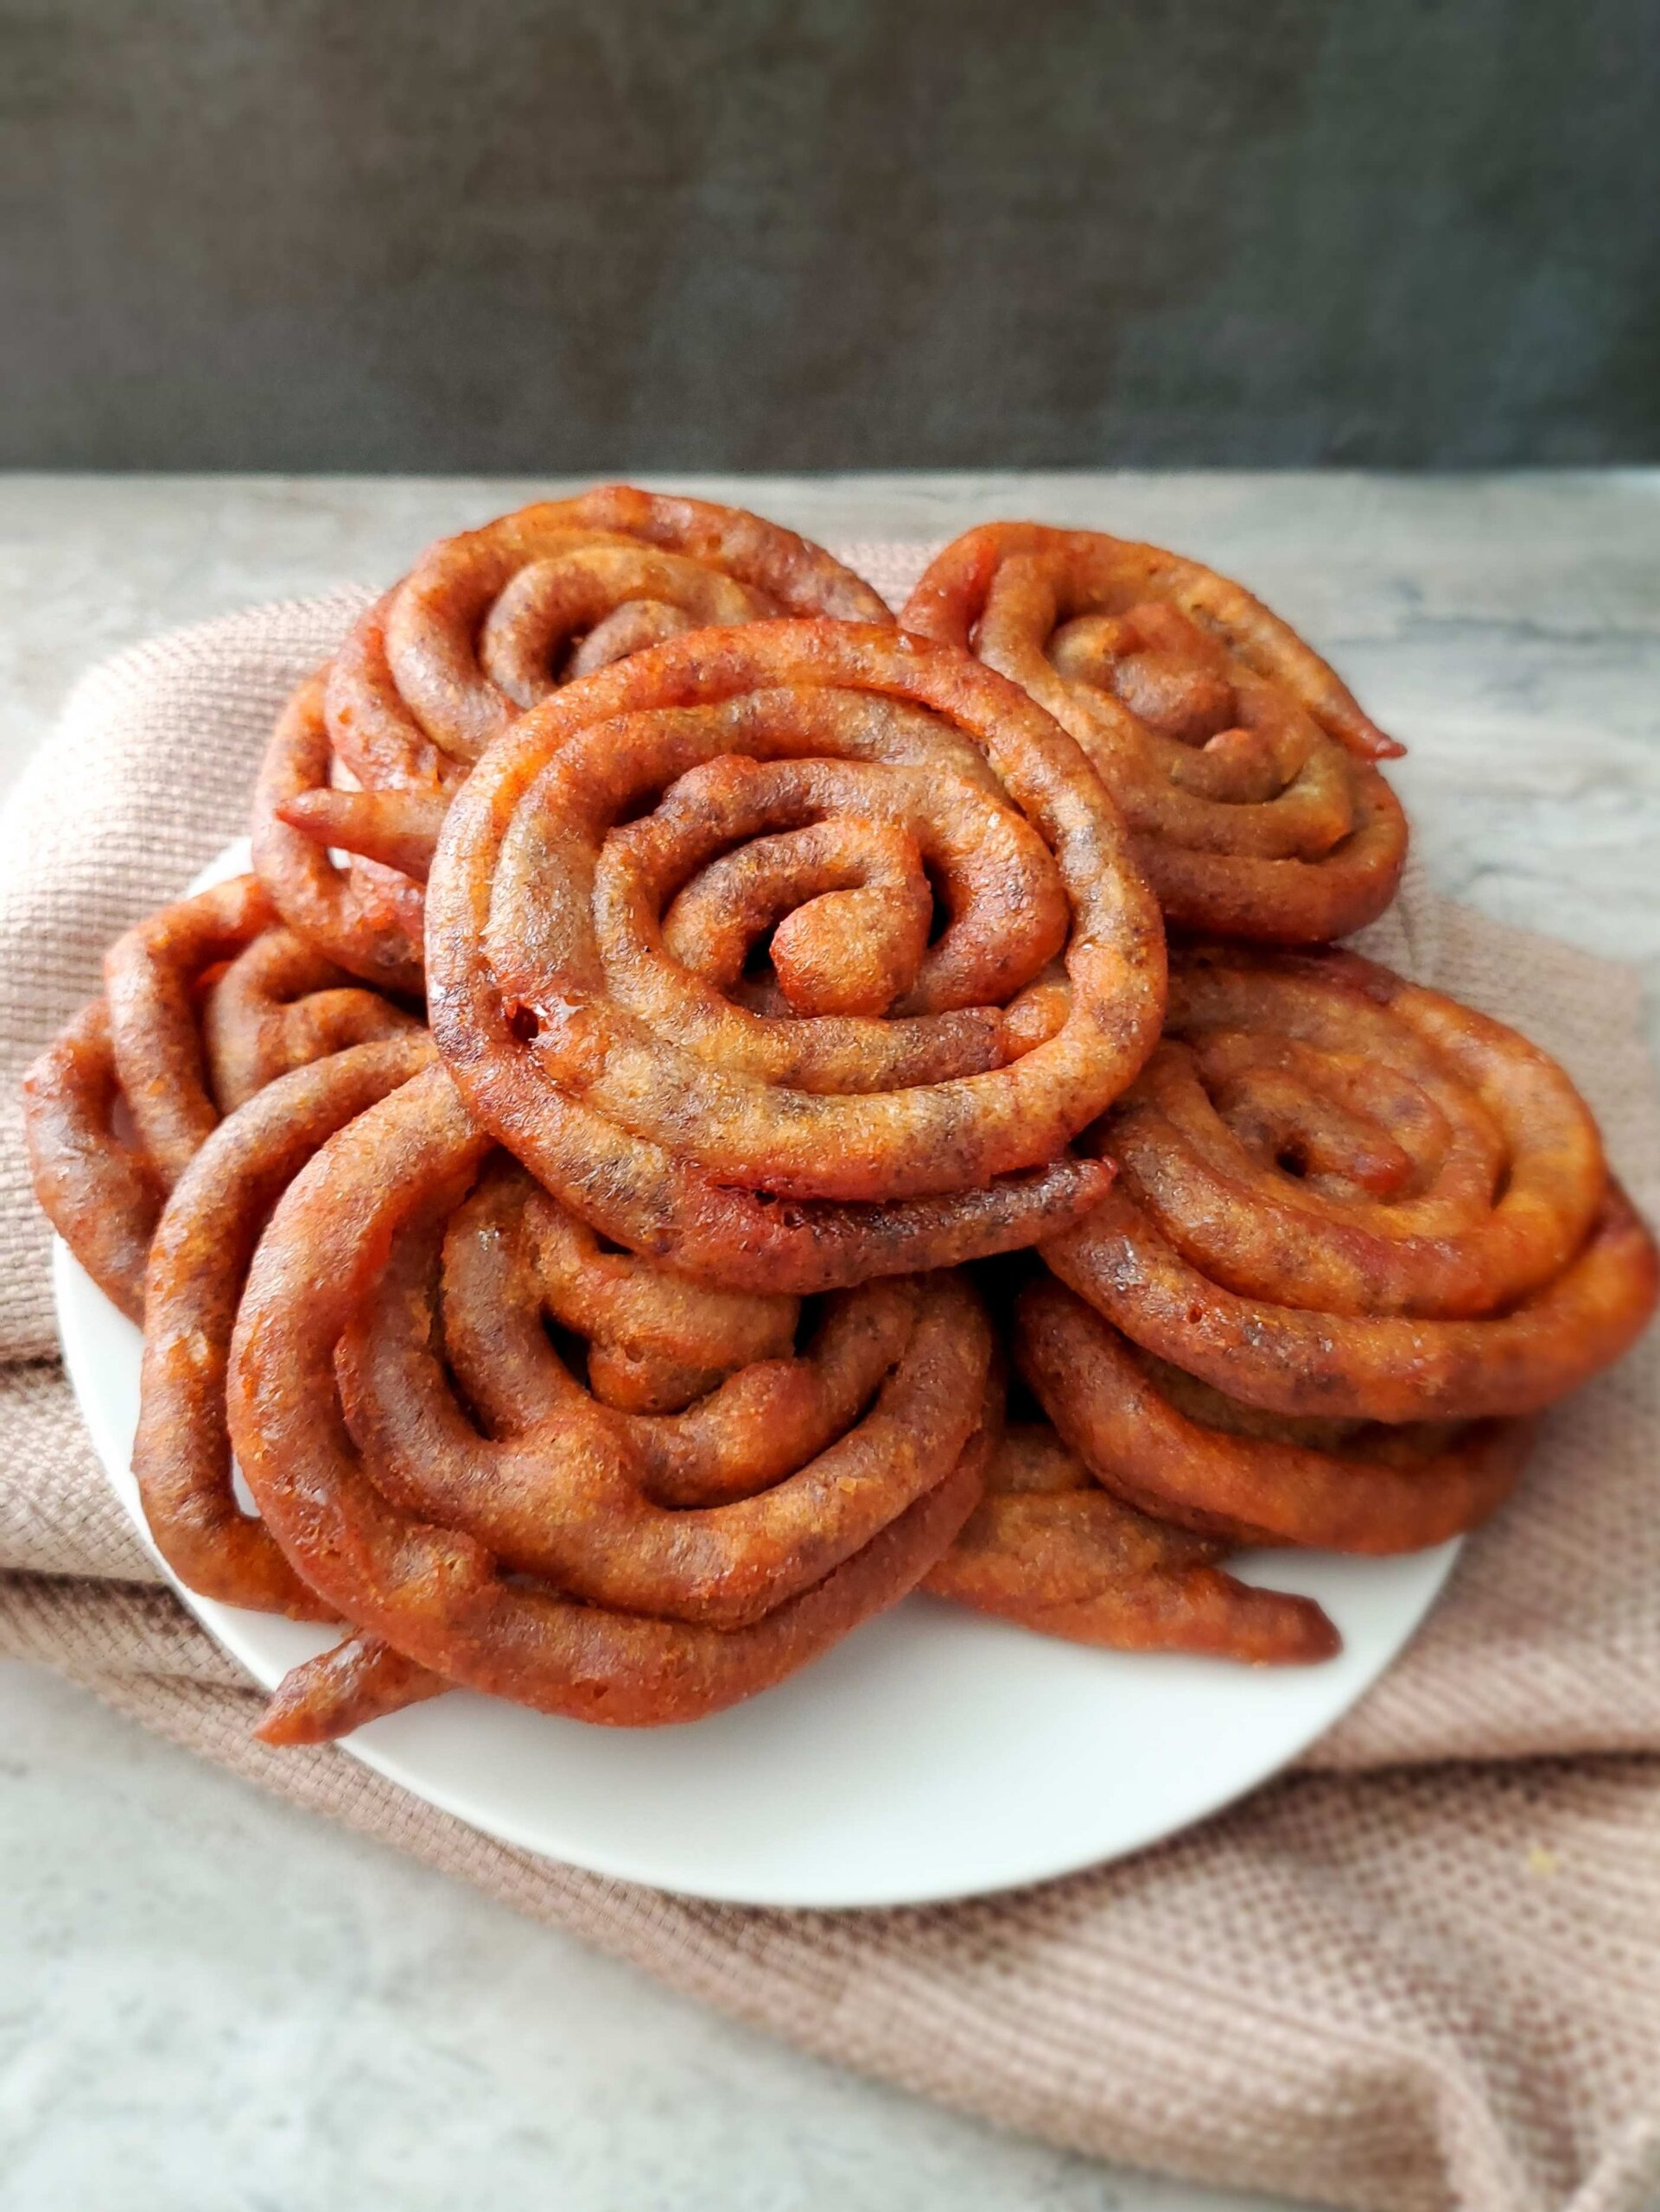pani_walalu: (129, 1048, 1031, 1726), (420, 619, 1175, 1286), (1031, 927, 1630, 1546), (907, 511, 1414, 943), (347, 490, 870, 753)
